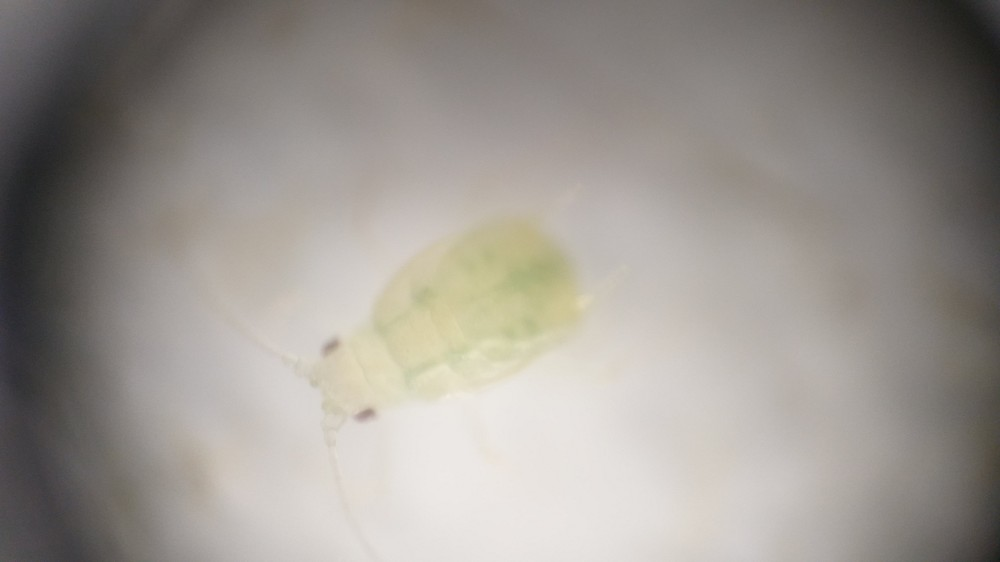Pulgon: (145, 162, 667, 542)
